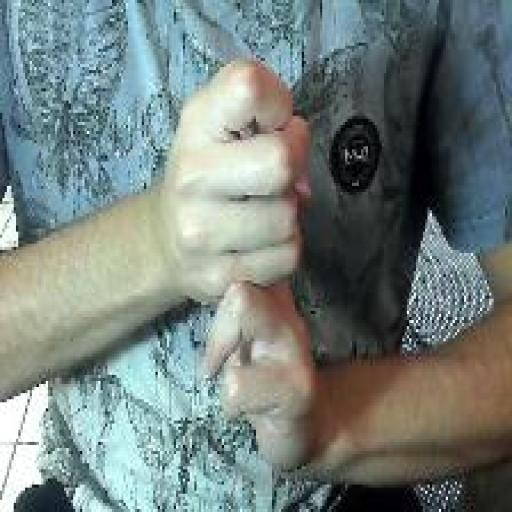Ne -rat-: (161, 53, 326, 489)
